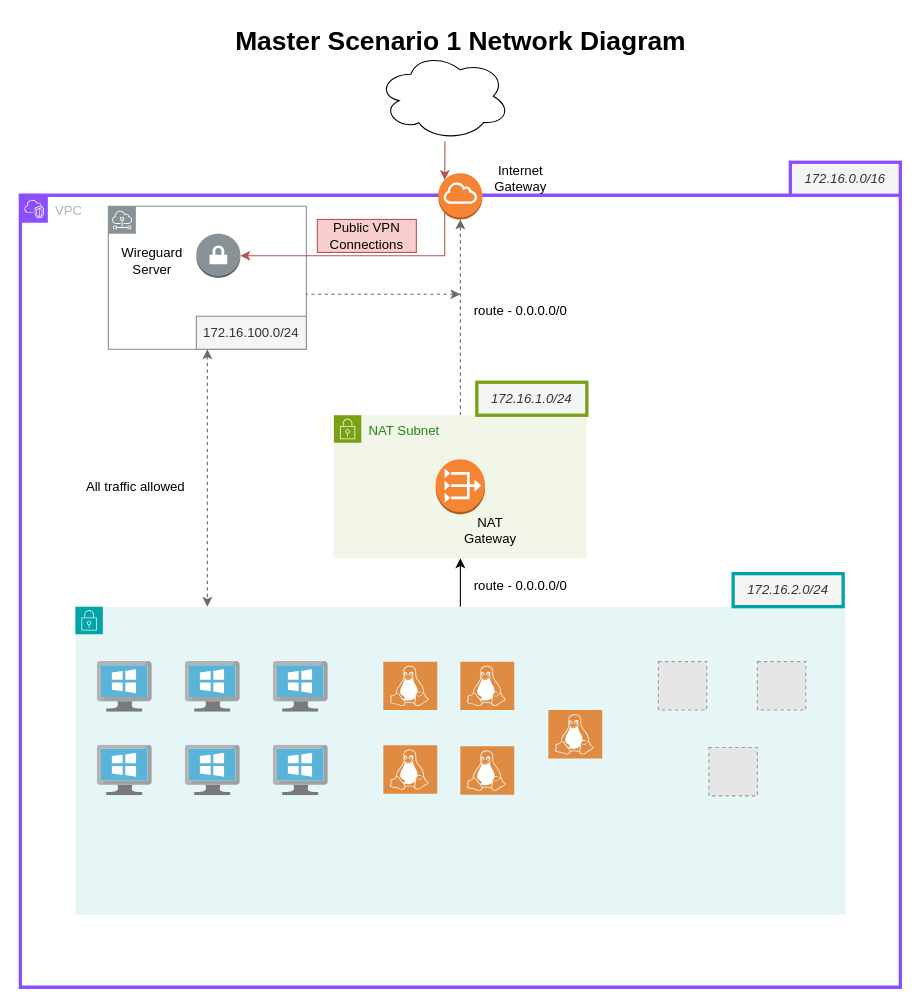
Image size: 921x1008. Some labels were removed from this diagram. Grey dashed boxes stand in for pictures. Each missing label, with the box of its shape:
Game-Subnet (Public): (74, 606, 845, 915)
Internet: (377, 51, 510, 140)
VPN Subnet: (107, 205, 306, 349)
